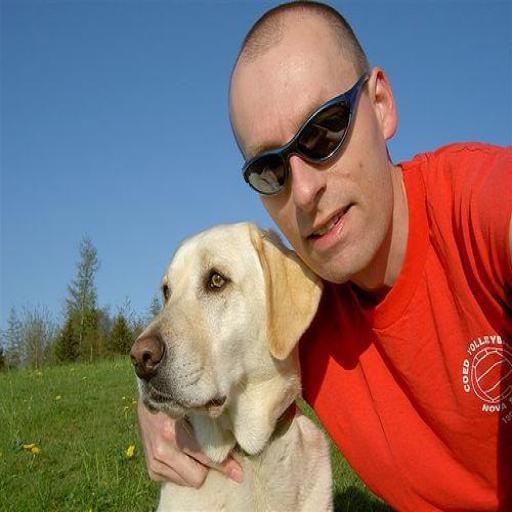dog_face: (127, 227, 304, 445)
